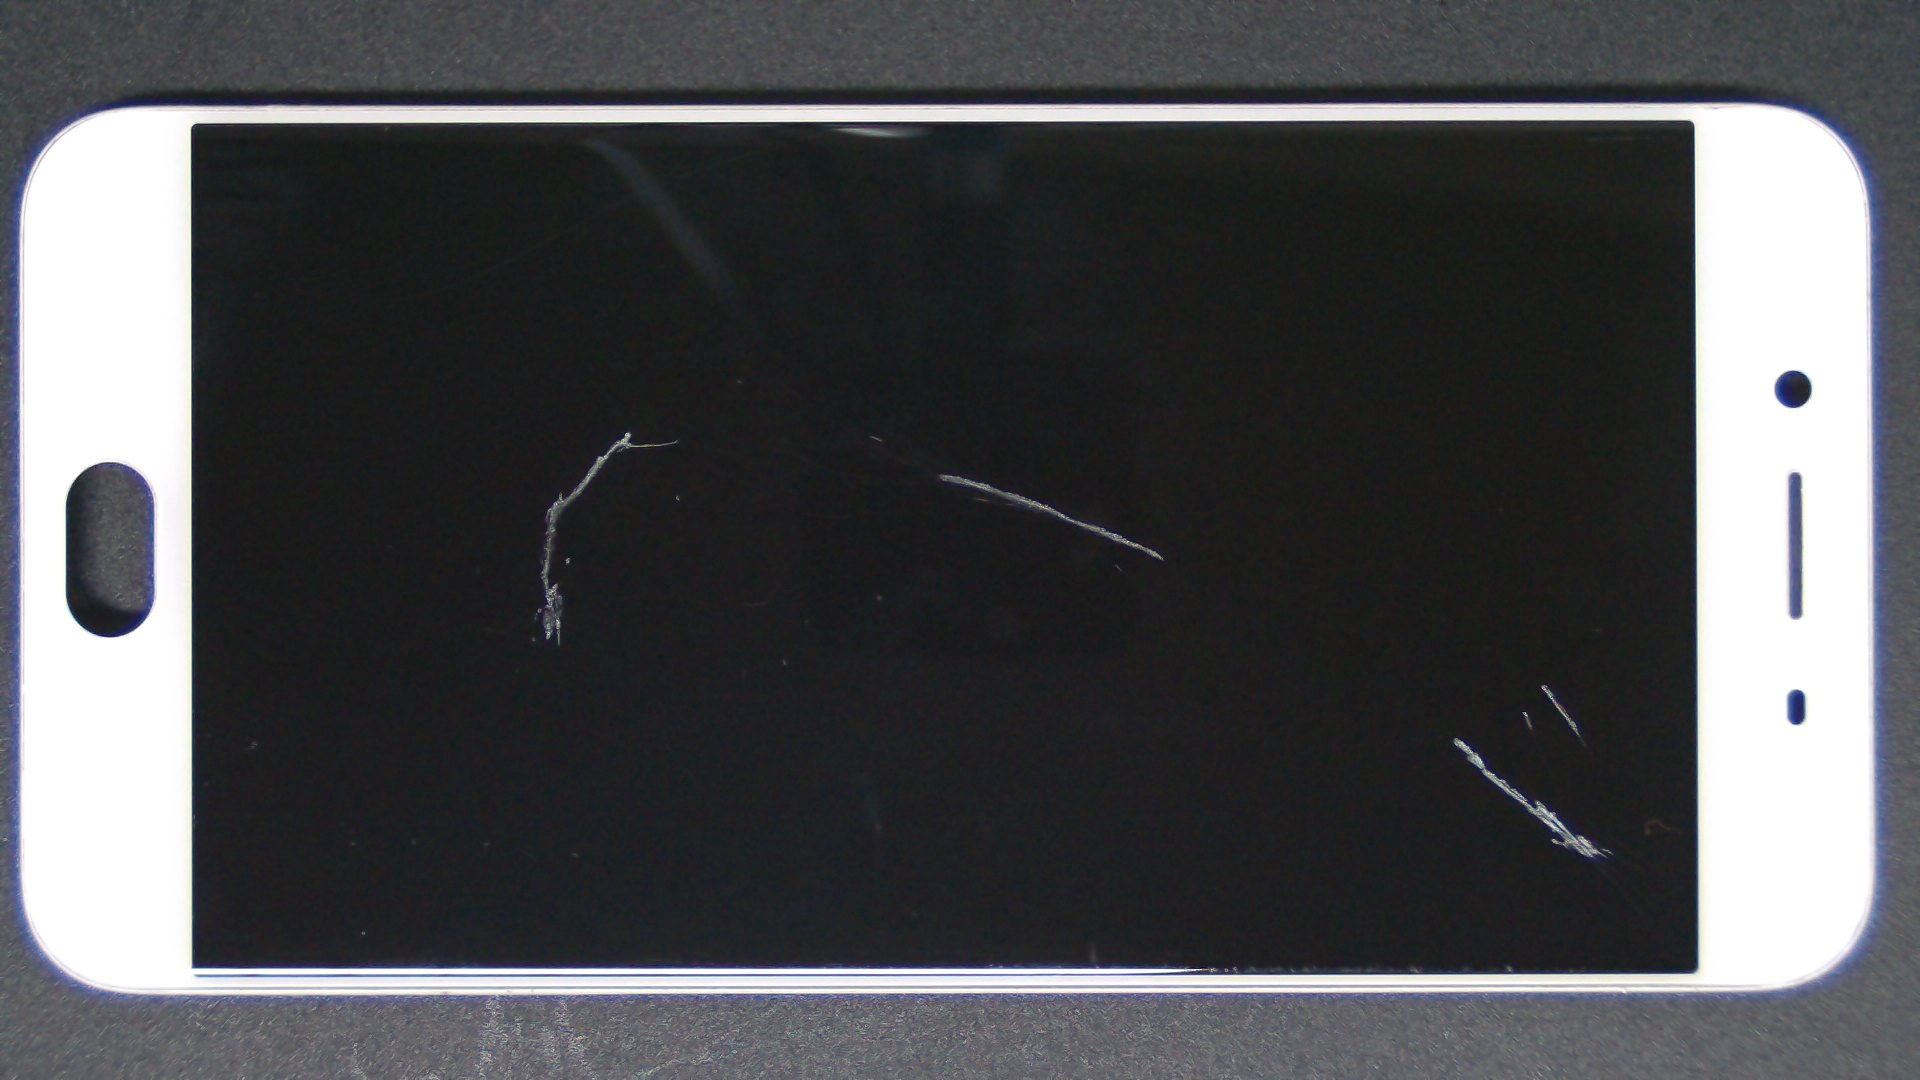oil: (727, 368, 1920, 1080), (762, 355, 1920, 1067), (771, 342, 1920, 1026), (471, 236, 1411, 709), (314, 215, 942, 647)
